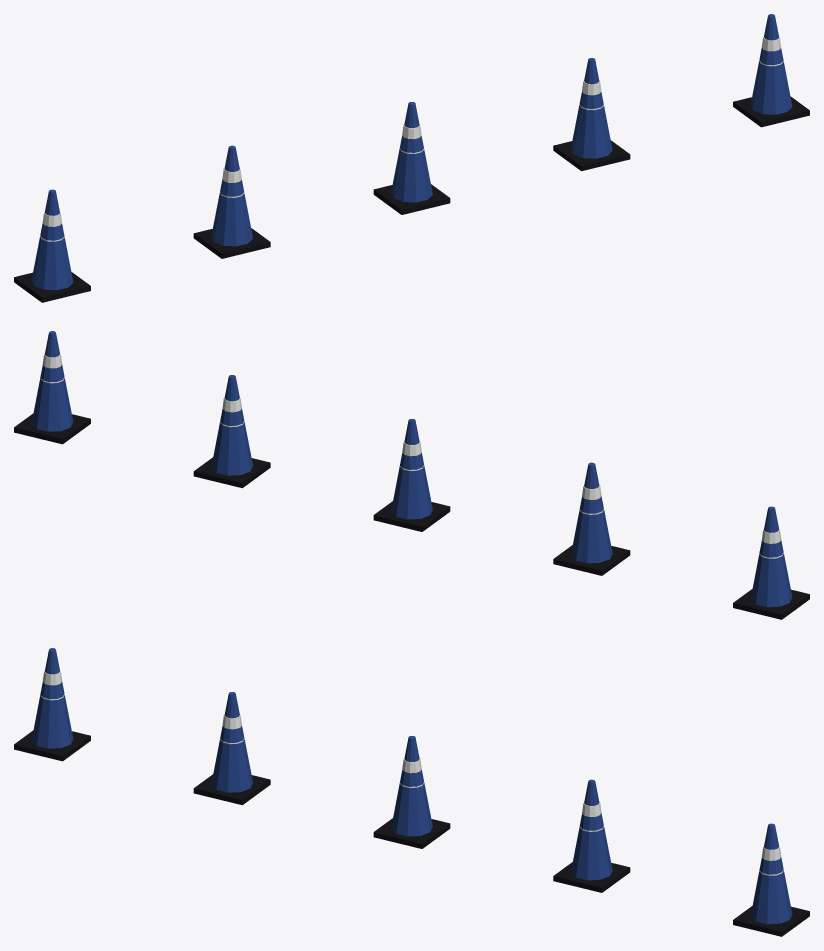
File: cones.glb
3 renders of one model, top to bottom at view 1: azimuth 30°, elevation 25°; view 2: azimuth 150°, elevation 25°; view 3: azimuth 330°, elevation 25°, orthographic.
Visible parts, largest first — view 1: Cones; view 2: Cones; view 3: Cones.
Boxes of the visible parts, x1,y1,x2,y2 form: Cones: [14, 14, 809, 302]; Cones: [14, 331, 809, 619]; Cones: [14, 648, 809, 936].
Bounding box in the file's own units: 6.3 × 0.75 × 0.4.
